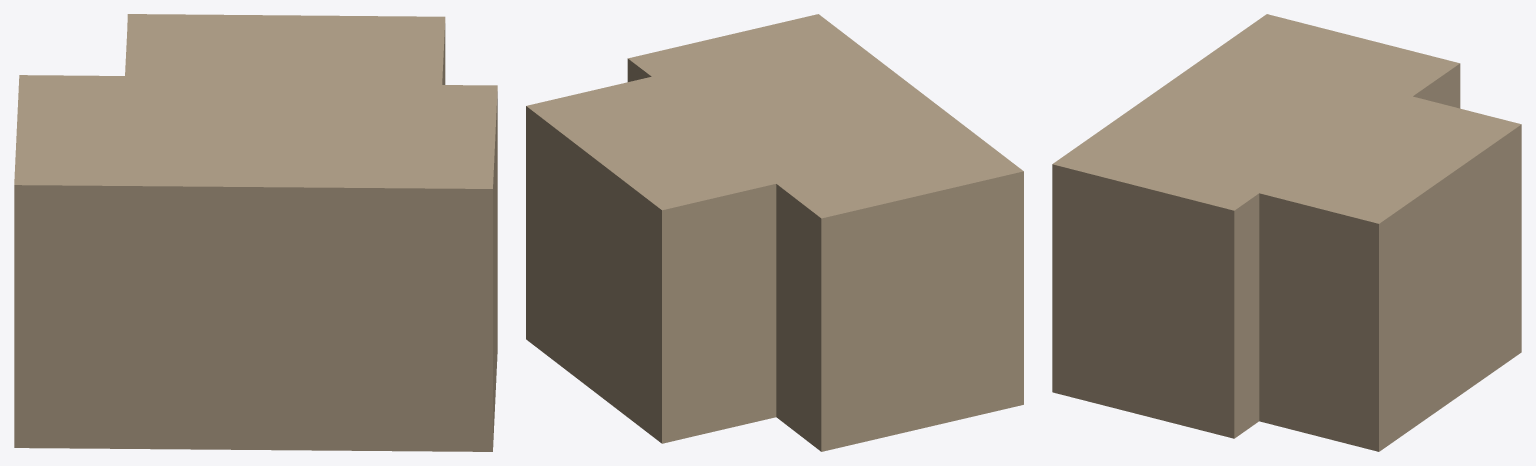
File: bld_101353791.dae
3 renders of one model, left to right at view 1: azimuth 30°, elevation 25°; view 2: azimuth 150°, elevation 25°; view 3: azimuth 270°, elevation 25°, orthographic. The views are drawn at different scales.
Visible parts, largest first — view 1: bld_101353791; view 2: bld_101353791; view 3: bld_101353791.
Part boxes in pixels (x1,y1,x2,y2): bld_101353791: (14,14,497,451); bld_101353791: (526,14,1023,451); bld_101353791: (1052,14,1521,451).
Size of the model in its own units: 15.79 by 14.93 by 8.
